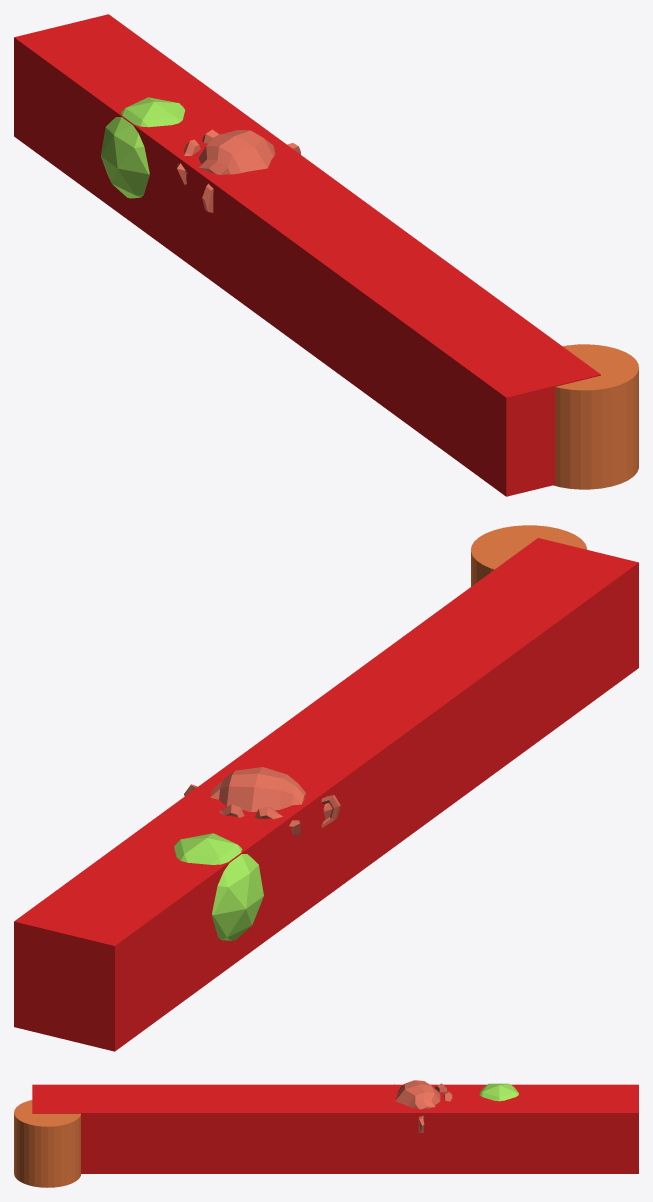
The picture shows the model from 3 angles, top to bottom: view 1: azimuth 30°, elevation 25°; view 2: azimuth 150°, elevation 25°; view 3: azimuth 270°, elevation 25°; orthographic projection. The views are drawn at different scales.
Visible parts, largest first — view 1: Cube.003, Cylinder, Icosphere, Suzanne; view 2: Cube.003, Icosphere, Suzanne, Cylinder; view 3: Cube.003, Cylinder, Suzanne, Icosphere.
Part boxes in pixels (x1,y1,x2,y2): Cube.003: (14,14,600,496); Cylinder: (553,344,638,489); Icosphere: (101,97,185,198); Suzanne: (177,129,300,212); Cube.003: (14,538,638,1051); Icosphere: (174,833,263,940); Suzanne: (184,767,340,836); Cylinder: (471,525,586,586); Cube.003: (32,1084,638,1173); Cylinder: (14,1100,81,1187); Suzanne: (394,1080,452,1132); Icosphere: (479,1083,518,1101).
Bounding box in the file's own units: 3.3 × 2.45 × 18.54.
